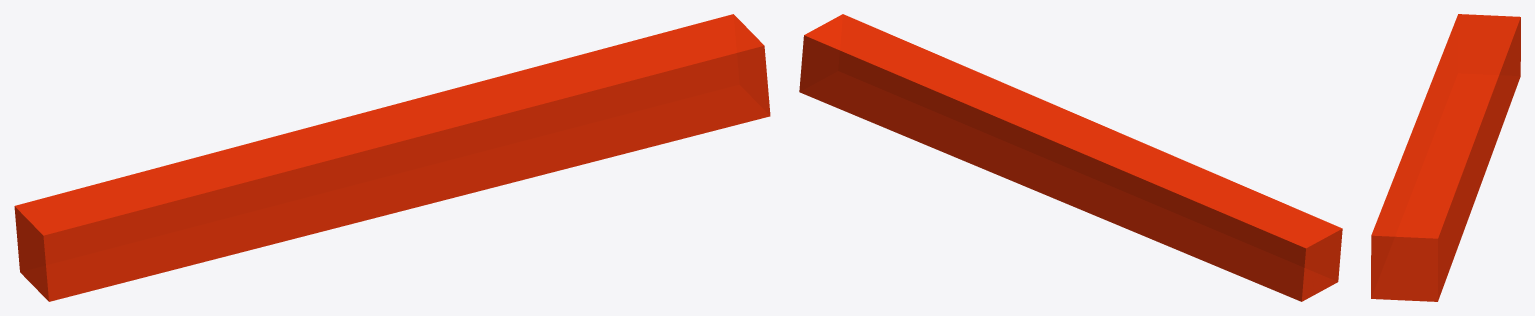
The model's file is Event_421364160_EErechit_42.fbx.
3 views of the same model, side by side, from view 1: azimuth 30°, elevation 25°; view 2: azimuth 150°, elevation 25°; view 3: azimuth 270°, elevation 25° (orthographic). The views are drawn at different scales.
Visible parts, largest first — view 1: Model; view 2: Model; view 3: Model.
Boxes of the visible parts, box(x1,y1,x2,y2) form: Model: box(14, 14, 770, 301); Model: box(799, 14, 1342, 301); Model: box(1371, 14, 1520, 301).
Bounding box in the file's own units: 0.7659 × 0.1418 × 0.172.
